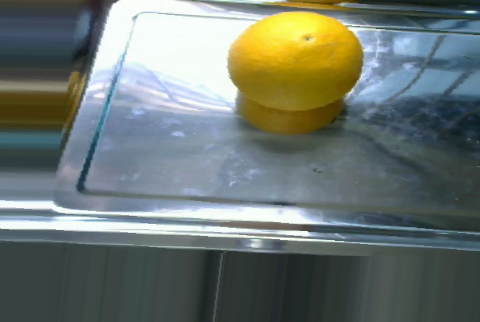Orange: (227, 11, 365, 111)
